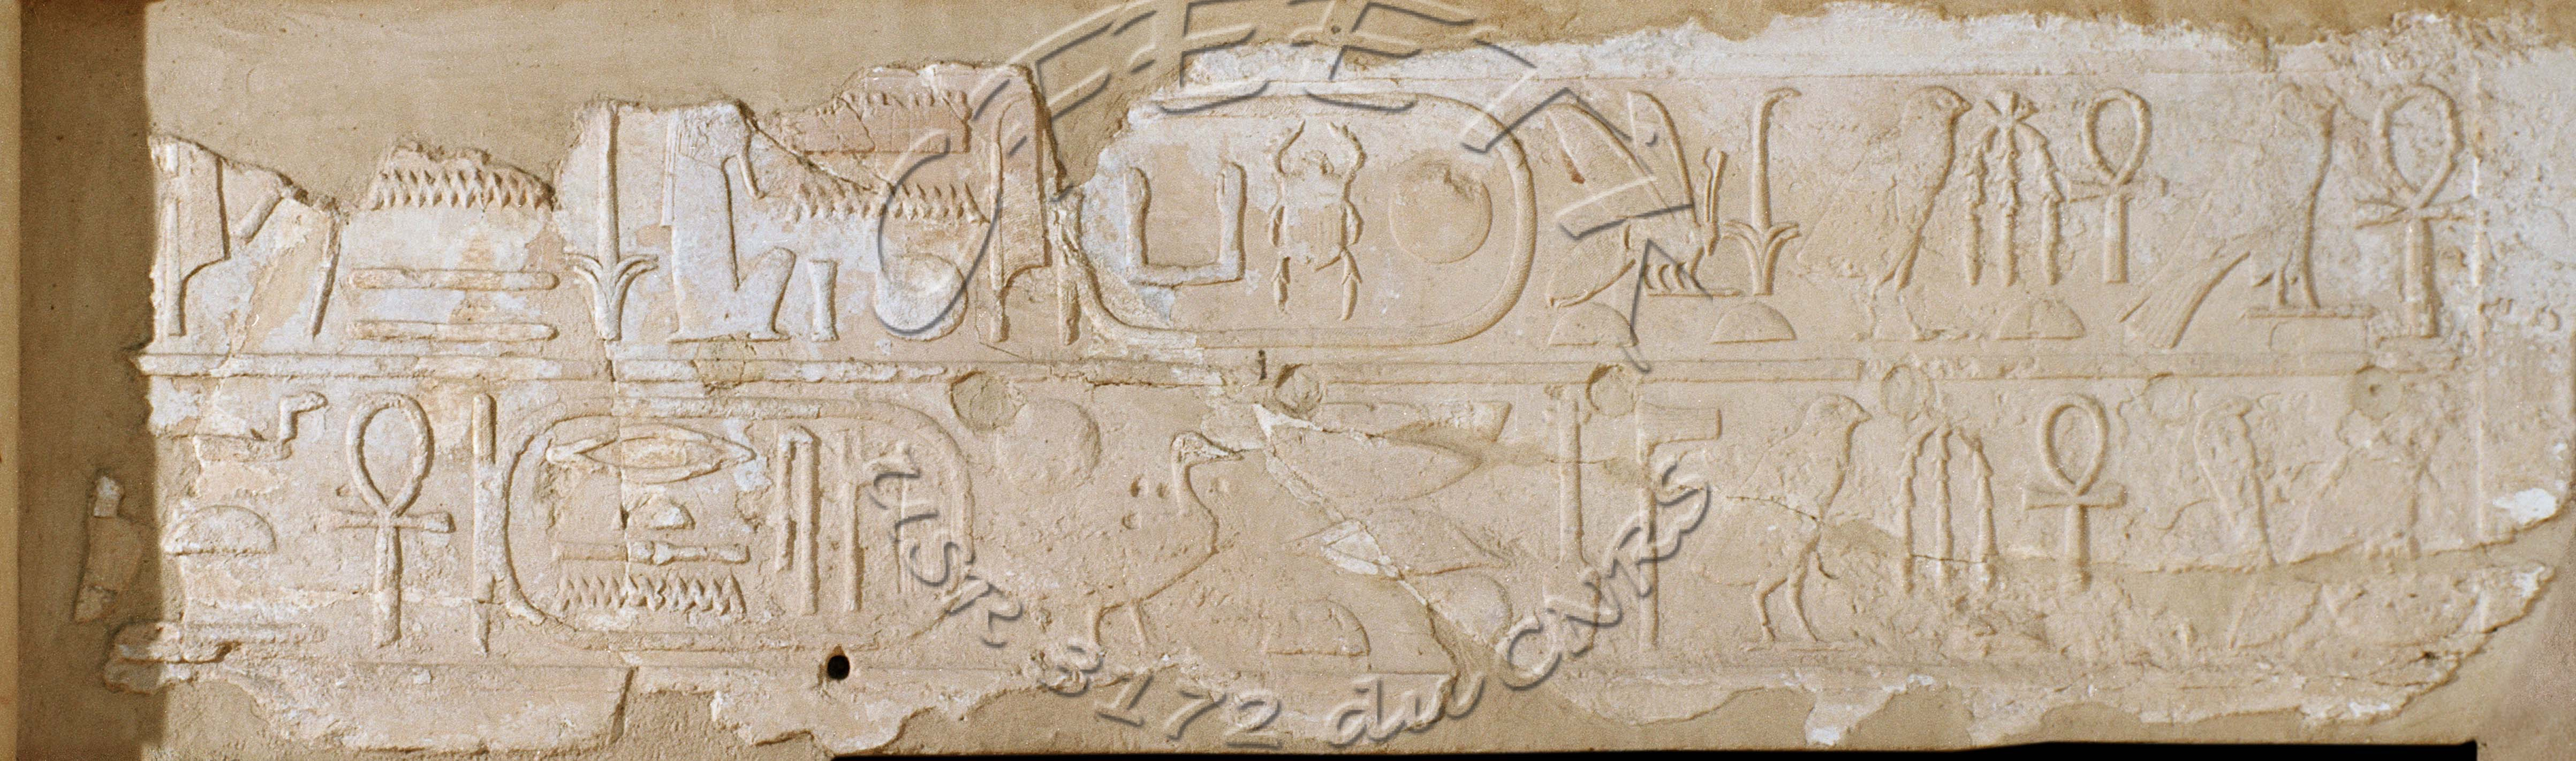D21: (529, 409, 766, 493), (1267, 439, 1488, 510)
D4: (1275, 506, 1520, 590)
G43: (1687, 388, 1886, 662), (1791, 81, 1966, 362)
I10: (107, 381, 330, 625)
M17: (971, 81, 1068, 348), (149, 110, 253, 342)
N35: (329, 150, 565, 232), (770, 174, 991, 243), (537, 565, 759, 631)
